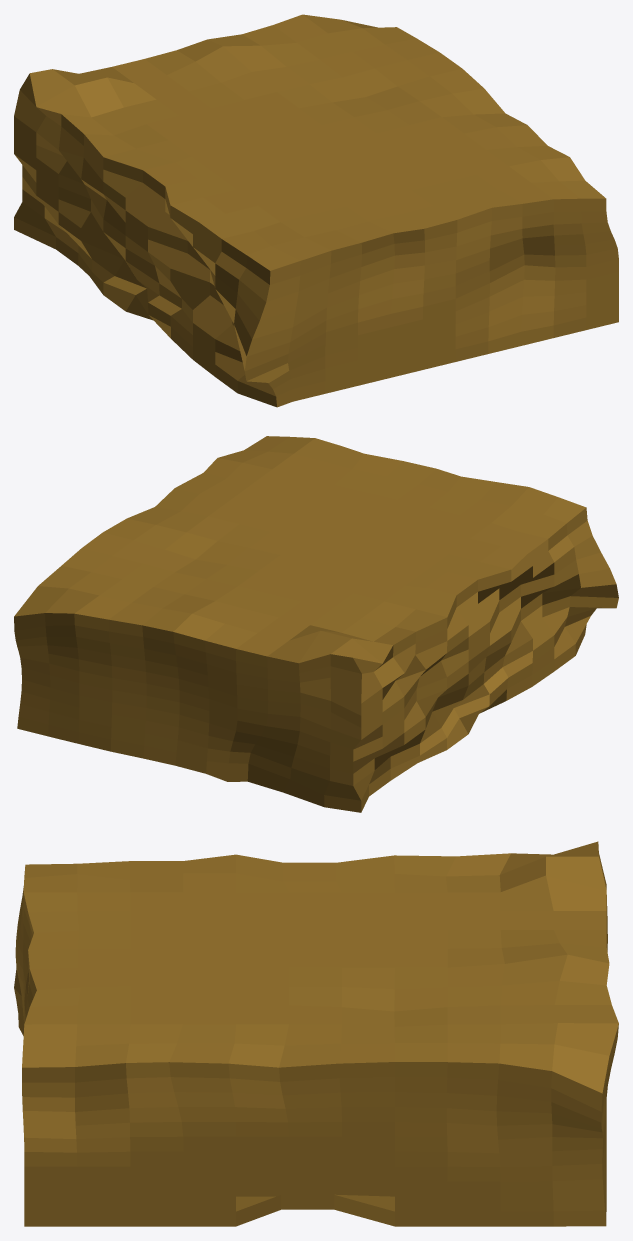
File: Island.glb
The picture shows the model from 3 angles, top to bottom: view 1: azimuth 30°, elevation 25°; view 2: azimuth 150°, elevation 25°; view 3: azimuth 270°, elevation 25°; orthographic projection. The views are drawn at different scales.
Visible parts, largest first — view 1: Cube; view 2: Cube; view 3: Cube.
Boxes of the visible parts, x1=… form: Cube: x1=14, y1=14, x2=618, y2=407; Cube: x1=14, y1=436, x2=618, y2=812; Cube: x1=14, y1=841, x2=618, y2=1226.
Bounding box in the file's own units: 562 × 228 × 650.
